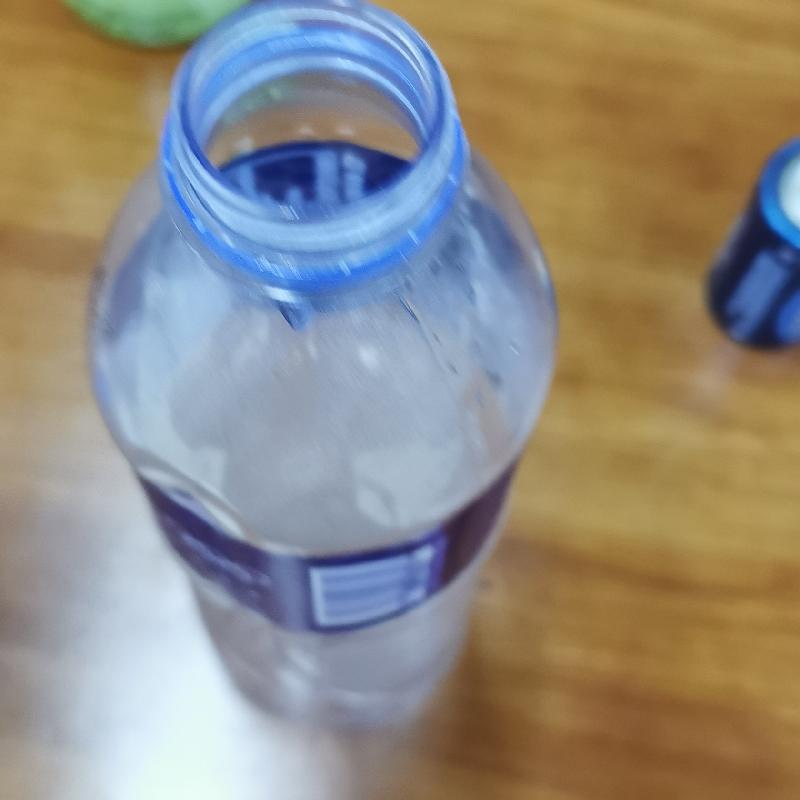bottles: (91, 3, 562, 746)
